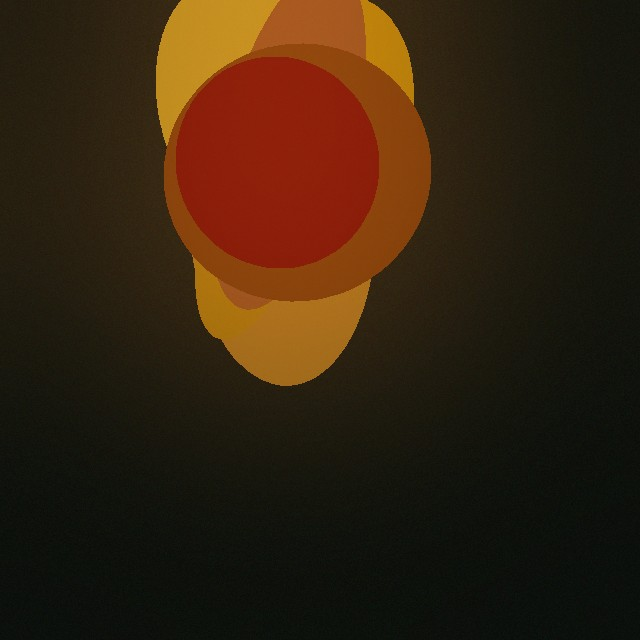fire: (134, 42, 434, 320)
